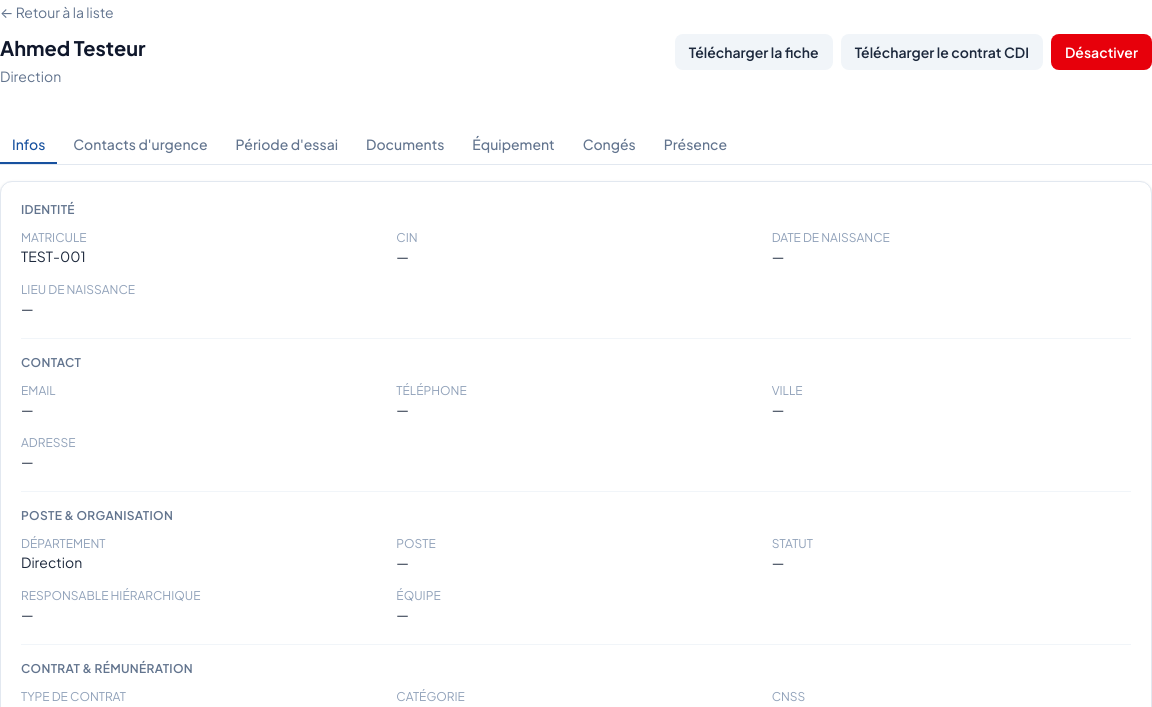
Test: EmployeeDetailPage › blocks the CDI download and opens the edit form when contract fields are missing
The width and height of the screenshot is (1152, 707).
Expected: the heading "Ahmed Testeur" is shown, [0, 34, 146, 62]
Click the button "Télécharger le contrat CDI".
click(942, 52)  # box [841, 34, 1043, 70]
(page scrolled)
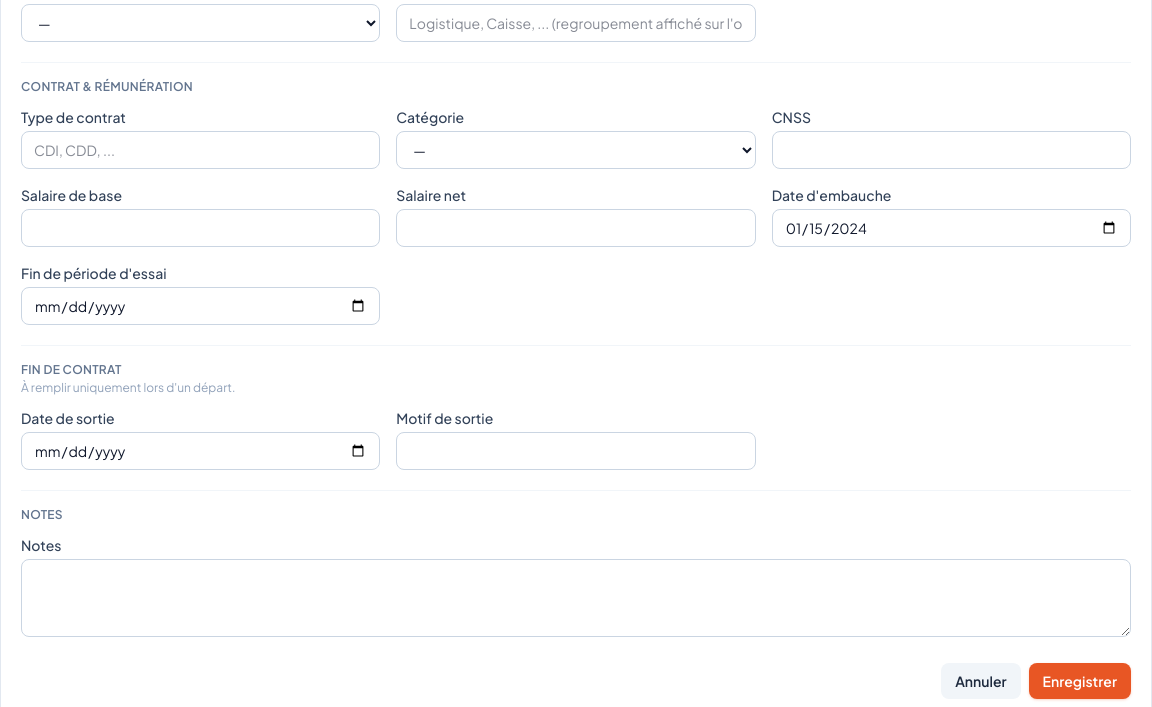
Result: the button "Enregistrer" is shown at [1029, 663, 1131, 699]
